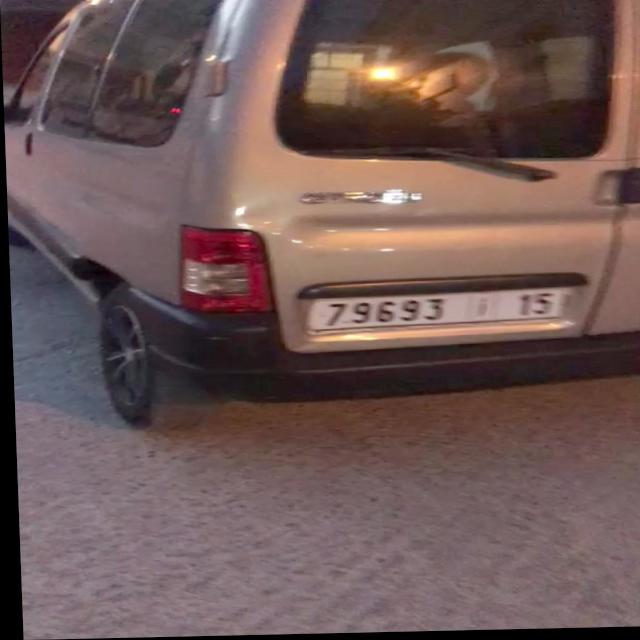License-Plate: (305, 291, 567, 332)
